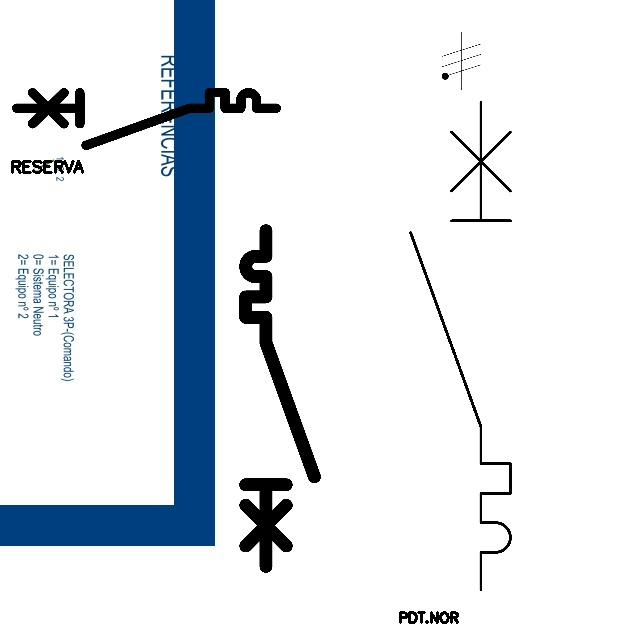interruptor_termomagnetico: (398, 89, 523, 601), (237, 222, 323, 575), (10, 86, 283, 152)
